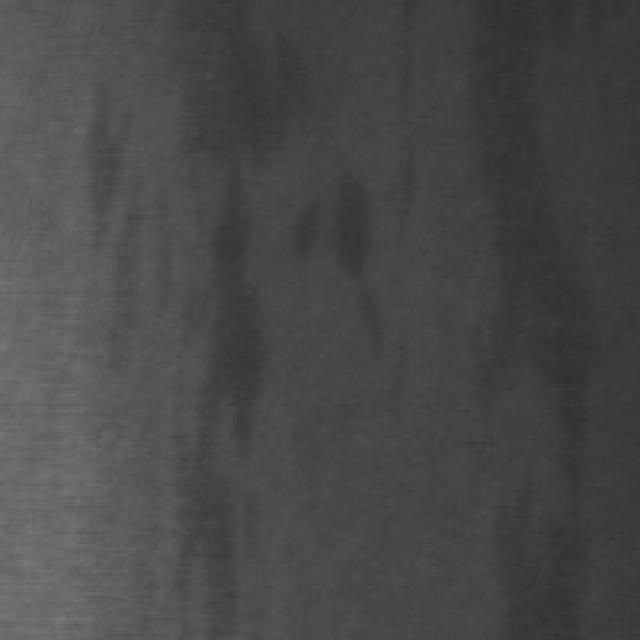inclusion: (458, 4, 602, 598), (150, 10, 298, 576), (74, 61, 140, 326), (314, 163, 394, 349)
